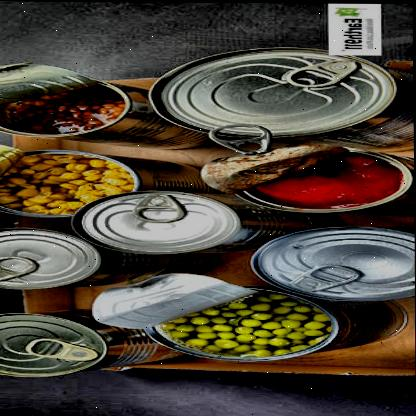Can: (146, 48, 416, 138), (246, 226, 416, 302), (70, 188, 244, 258), (1, 312, 140, 376), (0, 226, 106, 288)
